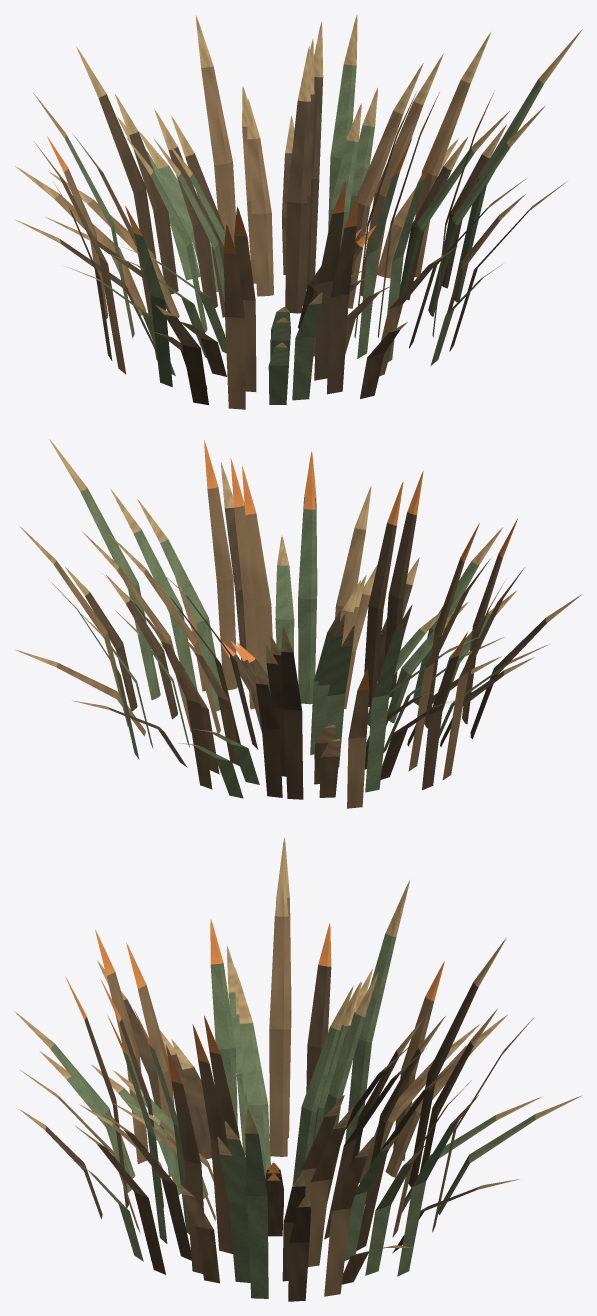
The model's file is EmberSedge.fbx.
3 views of the same model, one above another, from view 1: azimuth 30°, elevation 25°; view 2: azimuth 150°, elevation 25°; view 3: azimuth 270°, elevation 25° (orthographic). The views are drawn at different scales.
Visible parts, largest first — view 1: EmberSedgeDetail0, EmberSedgeDetail1, EmberSedgeDetail2; view 2: EmberSedgeDetail0, EmberSedgeDetail1, EmberSedgeDetail2; view 3: EmberSedgeDetail0, EmberSedgeDetail1, EmberSedgeDetail2.
Boxes of the visible parts, x1,y1,x2,y2 form: EmberSedgeDetail0: (33,14,582,405); EmberSedgeDetail1: (15,38,567,409); EmberSedgeDetail2: (65,21,493,404); EmberSedgeDetail0: (15,439,582,808); EmberSedgeDetail1: (65,451,534,798); EmberSedgeDetail2: (19,440,549,797); EmberSedgeDetail0: (14,856,542,1298); EmberSedgeDetail1: (65,837,582,1301); EmberSedgeDetail2: (39,946,497,1296).
Size of the model in its own units: 140 by 63 by 126.
1 material, 1 textured.
